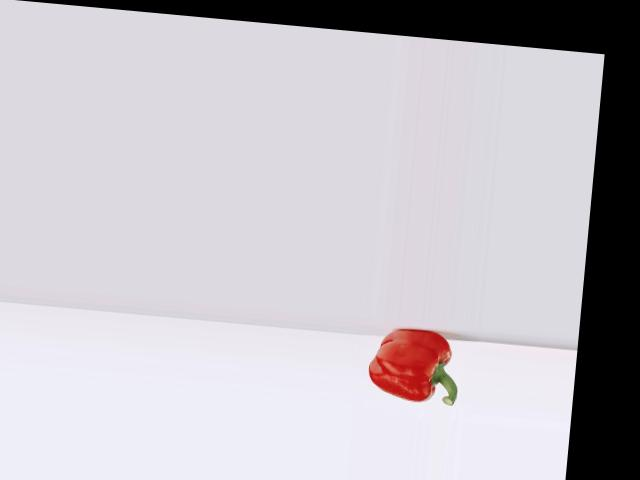bell_pepper: (361, 322, 471, 410)
